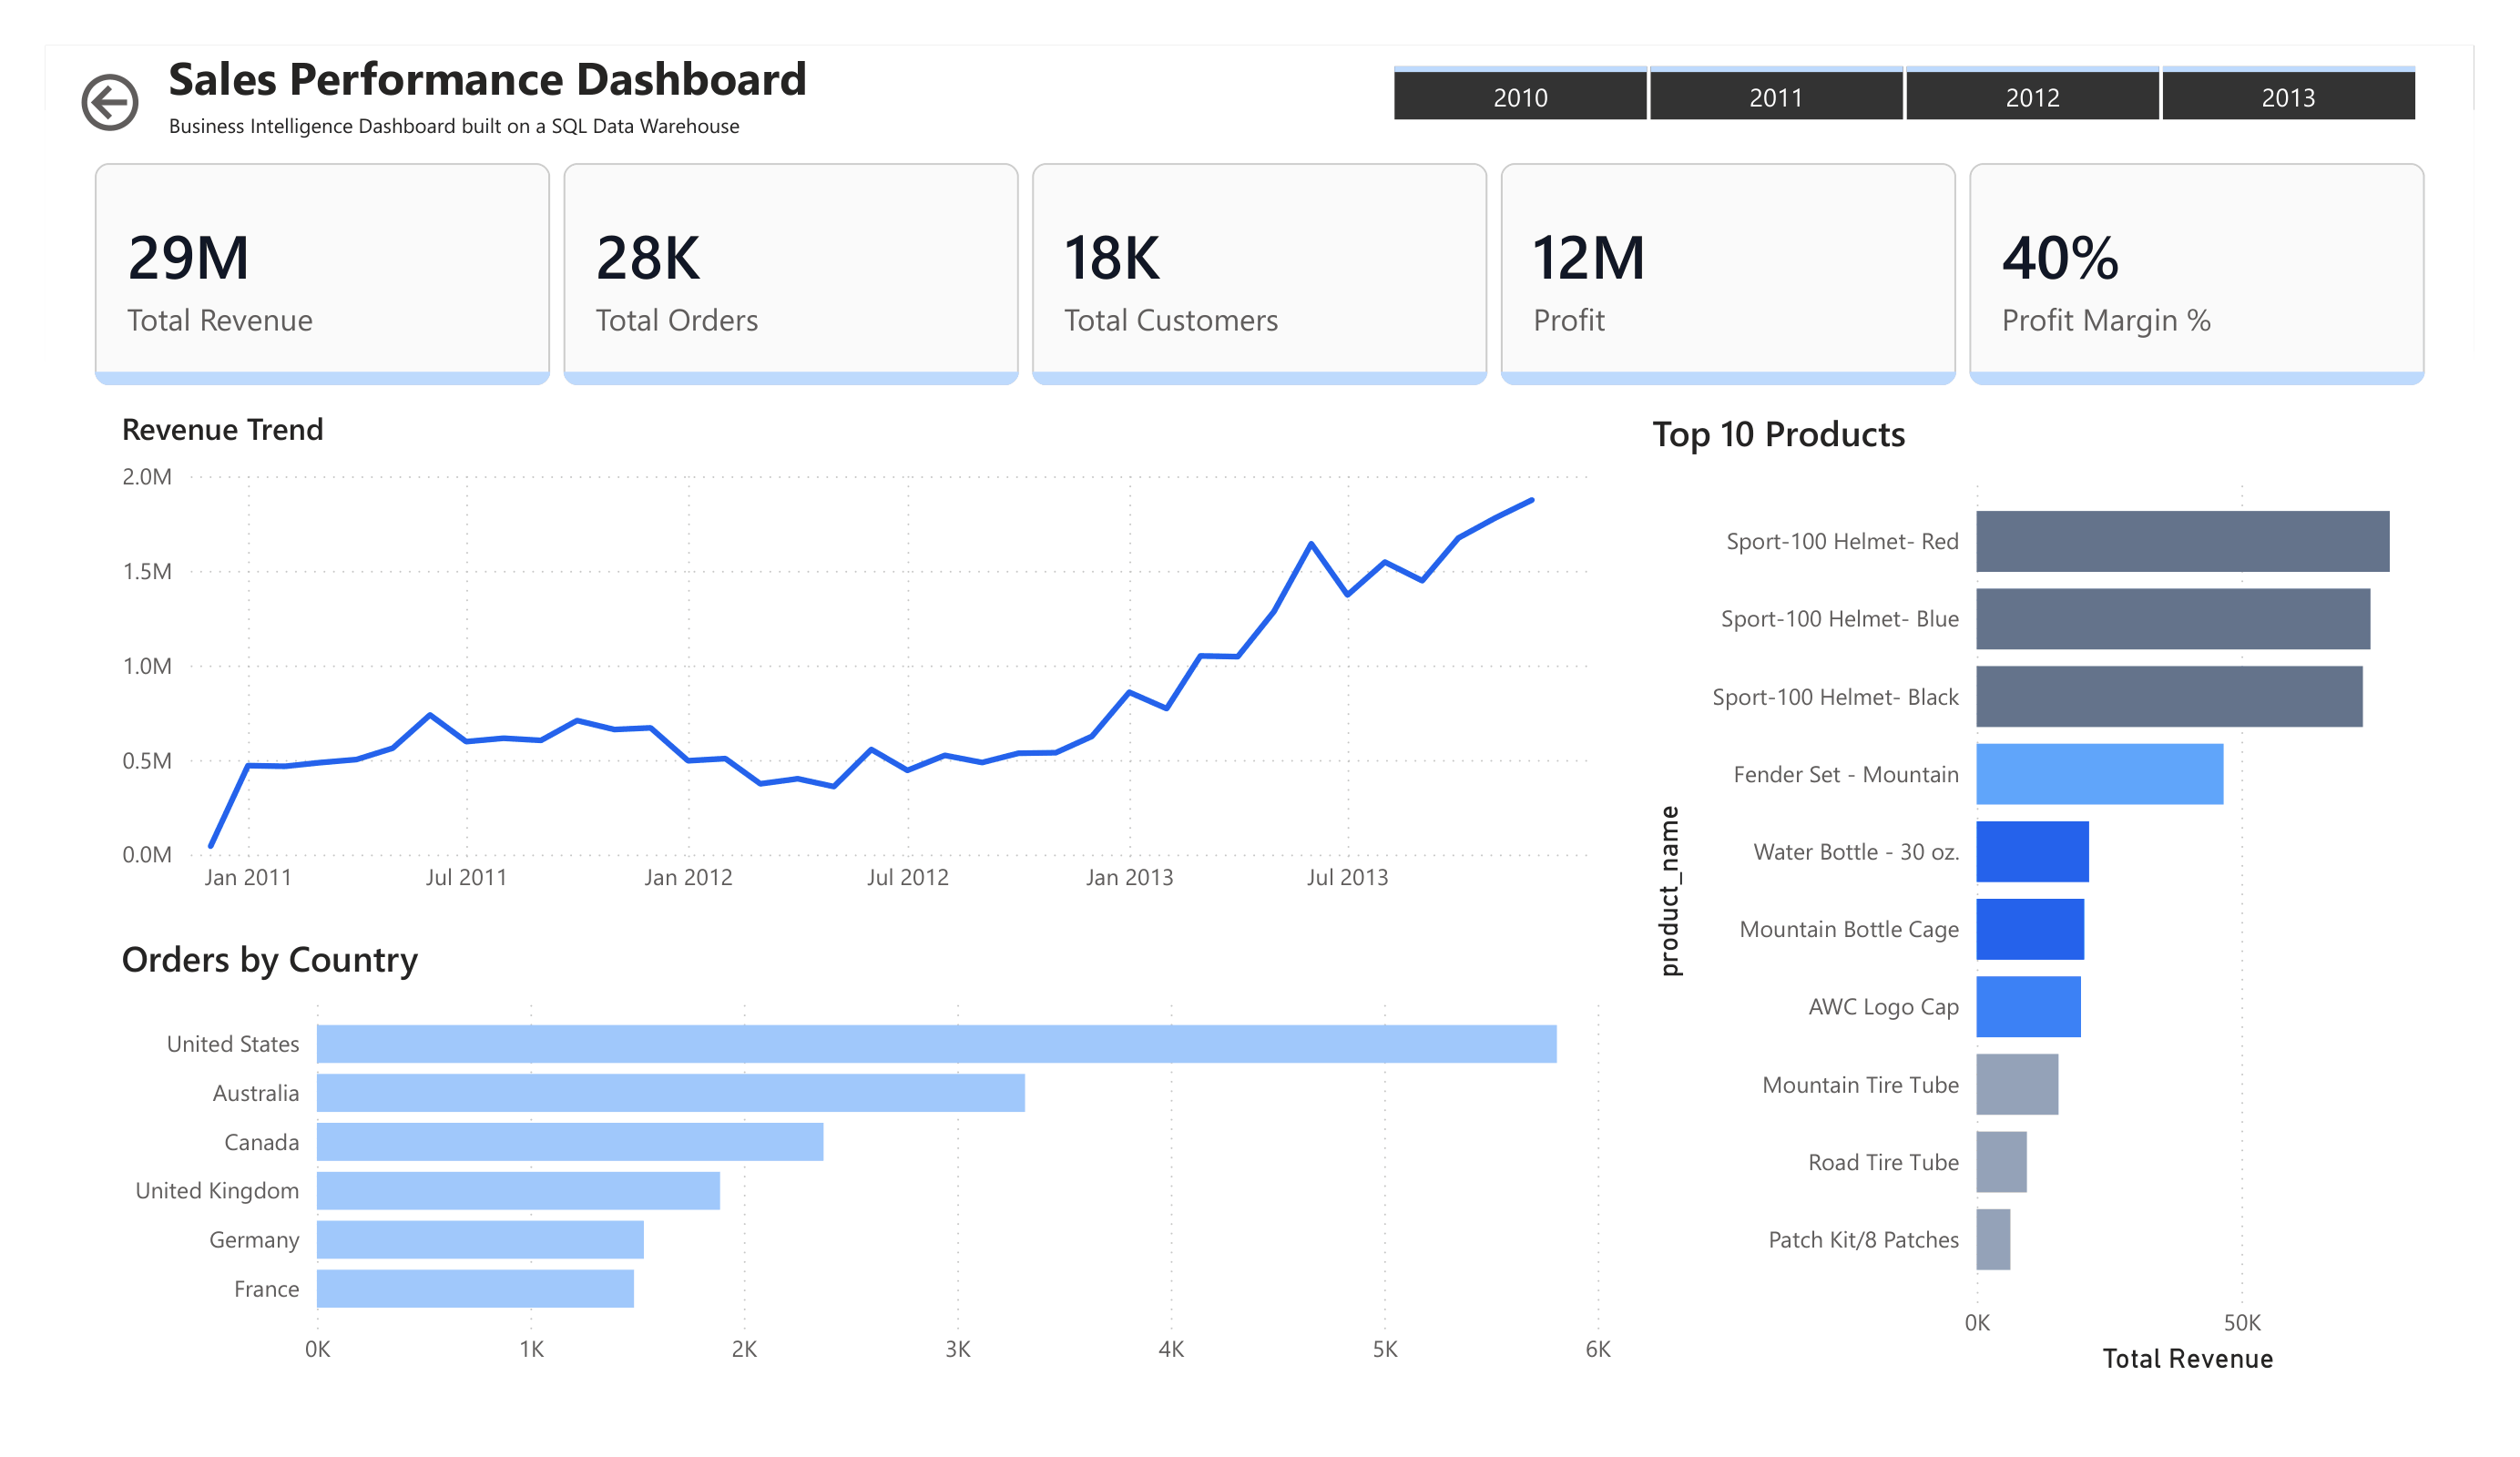

What the dashboard file says about the page in this screenshot:
{"tool":"powerbi","page":{"name":"Page 1","canvas":[1280,720],"ordinal":0},"visuals":[{"type":"cardVisual","fields":{"Data":["gold fact_sales.Total Revenue","gold fact_sales.Total Orders","gold fact_sales.Total Customers","gold fact_sales.Profit","gold fact_sales.Profit Margin %"]},"box":[14.4,50.4,1253.2,141],"z":0},{"type":"barChart","title":"Top 10 Products","fields":{"Y":["gold fact_sales.Total Revenue"],"Category":["gold dim_product.product_name"],"Series":["gold dim_product.subcategory"]},"box":[841.7,191.4,414.4,513.7],"z":1000},{"type":"lineChart","title":"Revenue Trend","fields":{"Category":["gold fact_sales.order_date.Variation.Date Hierarchy.Year","gold fact_sales.order_date.Variation.Date Hierarchy.Month"],"Y":["gold fact_sales.Total Revenue"]},"box":[34.5,191.4,795.7,264.8],"z":2000},{"type":"barChart","title":"Orders by Country","fields":{"Category":["gold dim_customers.country"],"Y":["gold fact_sales.Total Orders"]},"box":[34.5,467.6,795.7,237.4],"z":4000},{"type":"actionButton","box":[14.4,10.1,100.7,40.3],"z":6000},{"type":"slicer","fields":{"Values":["gold fact_sales.order_date.Variation.Date Hierarchy.Year"]},"box":[677.8,0,602.7,50.8],"z":6002},{"type":"textbox","box":[65,0,637,50],"z":6003}]}

Visuals, with their boxes on the page's 1280x720 design canvas (x1, y1, x2, y2). These are canvas units, not pixel positions in the 2520x1457 screenshot, which may show the page scaled, cropped or inside an application window:
cardVisual - gold fact_sales.Total Revenue x gold fact_sales.Total Orders: bbox=[14, 50, 1268, 191]
"Top 10 Products" barChart: bbox=[842, 191, 1256, 705]
"Revenue Trend" lineChart: bbox=[34, 191, 830, 456]
"Orders by Country" barChart: bbox=[34, 468, 830, 705]
actionButton: bbox=[14, 10, 115, 50]
slicer - gold fact_sales.order_date.Variation.Date Hierarchy.Year: bbox=[678, 0, 1280, 51]
textbox: bbox=[65, 0, 702, 50]
